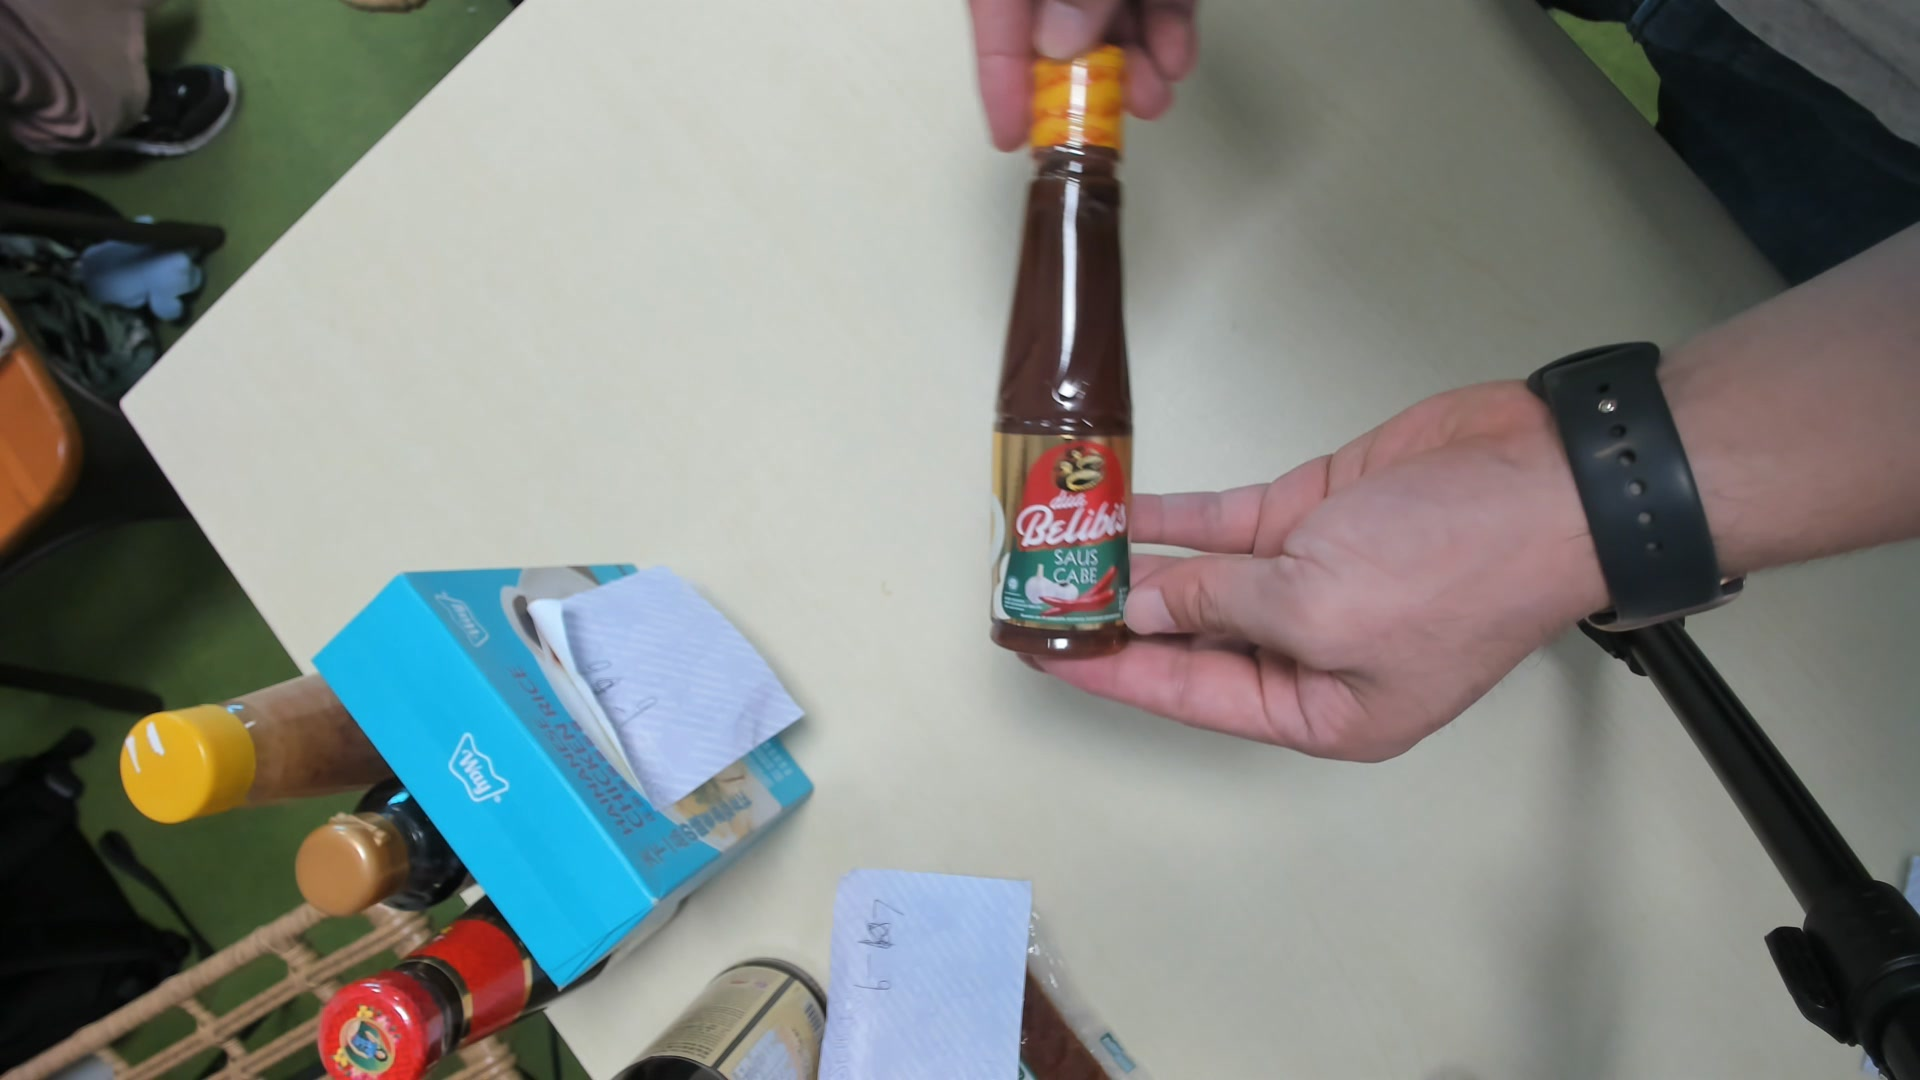KetchupChillSauce_100-199g_Halal_NonHealthy: (984, 45, 1137, 665)
